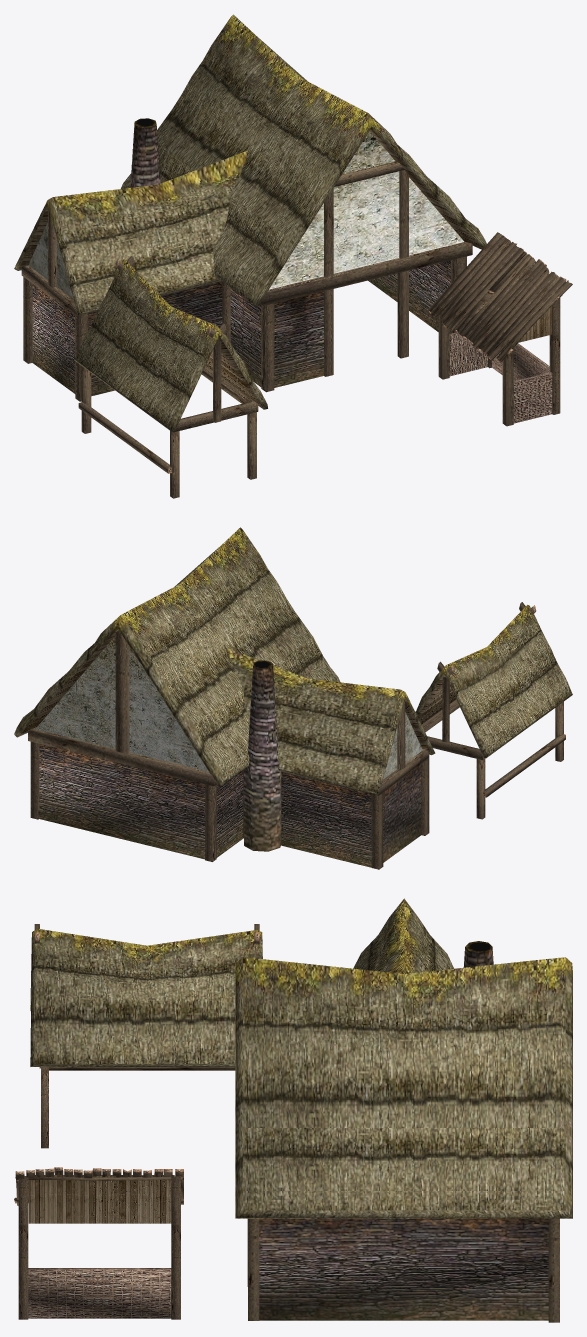
Rendered from celt_barracks.dae.
3 views of the same model, one above another, from view 1: azimuth 30°, elevation 25°; view 2: azimuth 150°, elevation 25°; view 3: azimuth 270°, elevation 25° (orthographic). The views are drawn at different scales.
Parts seen in each view (by area): view 1: Object025; view 2: Object025; view 3: Object025.
Boxes of the visible parts, left/top/right/bottom form: Object025: left=14, top=14, right=572, bottom=498; Object025: left=14, top=527, right=572, bottom=869; Object025: left=14, top=898, right=572, bottom=1322.
Size of the model in its own units: 20.6 by 12.46 by 20.67.
